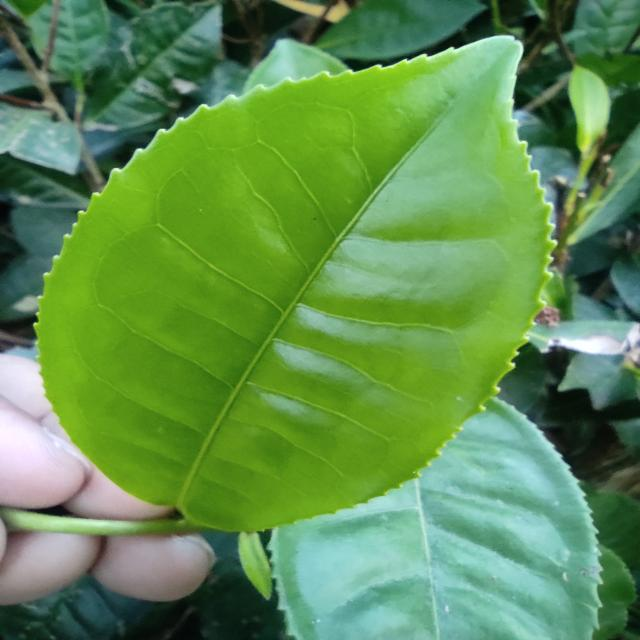Category C 4-7 days: (4, 26, 573, 556)
